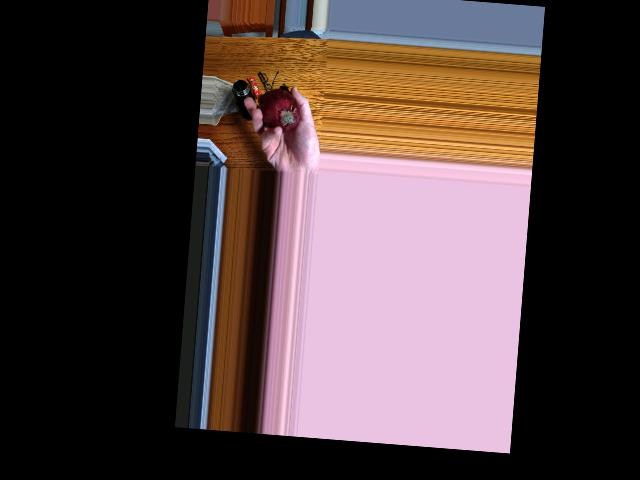onion: (260, 91, 301, 133)
